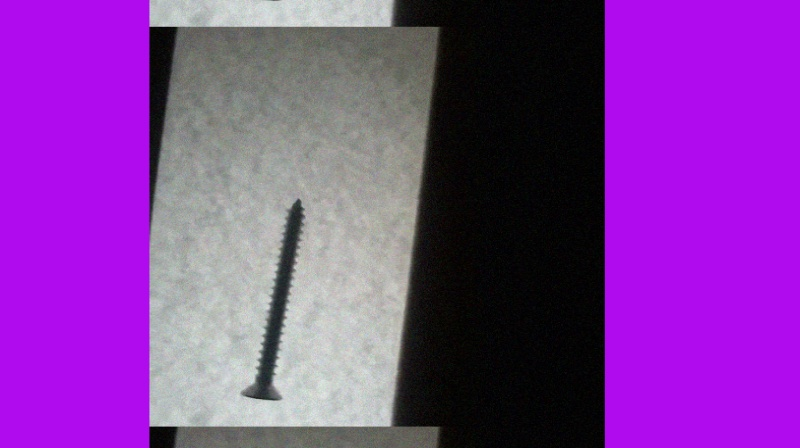S002: (236, 195, 306, 403)
